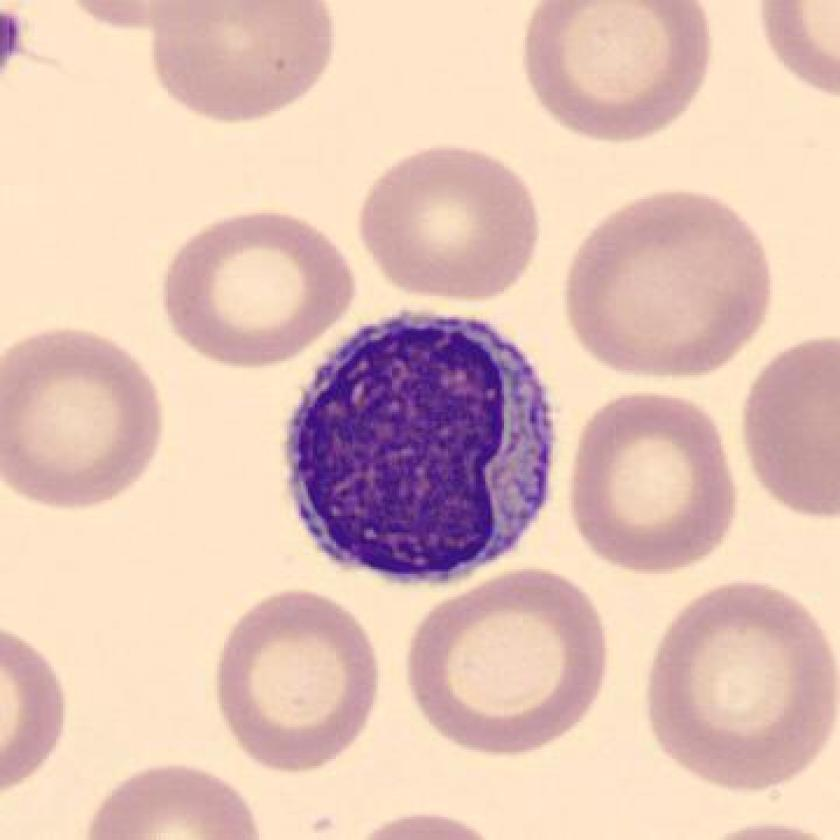lymphocyte: (253, 295, 589, 603)
